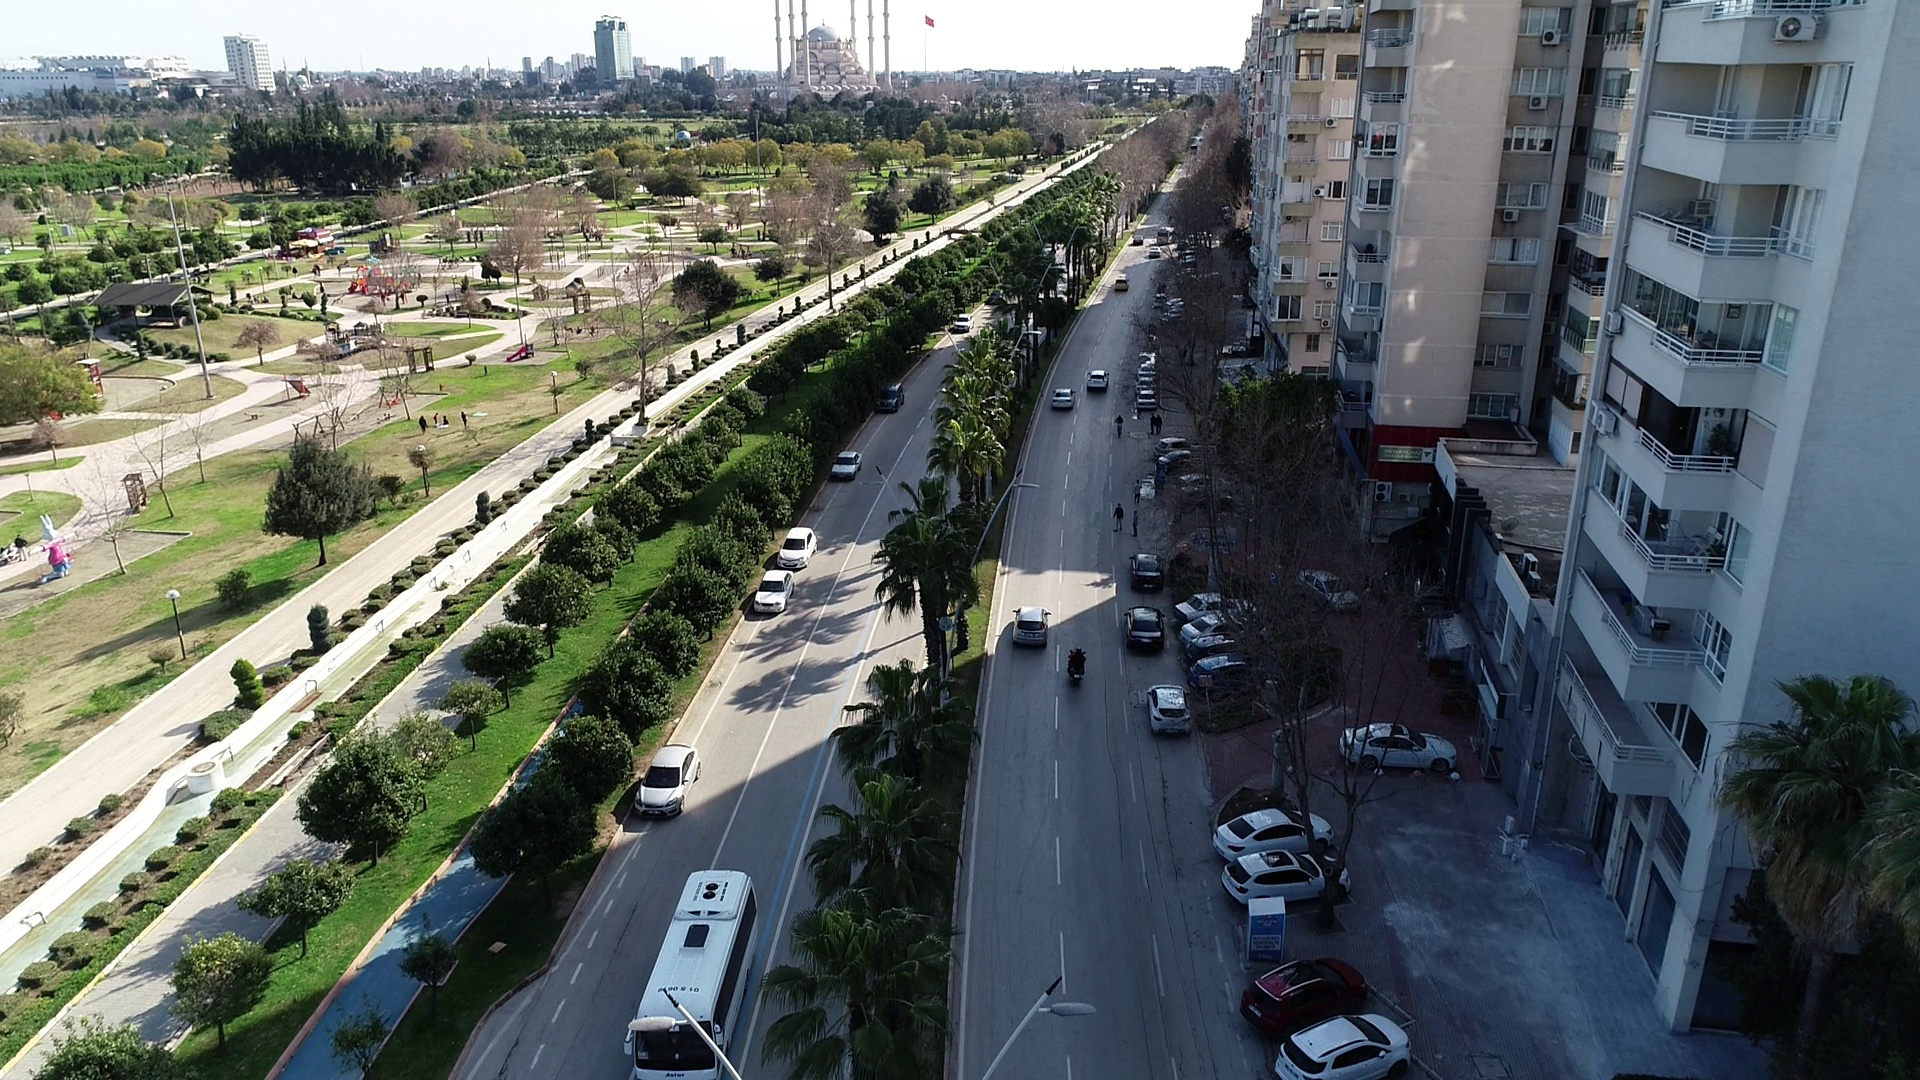car: (1238, 950, 1374, 1035), (1337, 718, 1466, 795), (1272, 1013, 1415, 1080), (1208, 849, 1361, 908), (1205, 809, 1348, 859), (633, 740, 703, 829), (1294, 566, 1368, 616), (1189, 652, 1281, 690), (1142, 683, 1196, 747), (1121, 599, 1174, 661), (1172, 590, 1263, 621), (1006, 603, 1055, 661), (753, 568, 797, 622), (1126, 547, 1175, 595), (774, 526, 821, 573), (826, 446, 865, 485), (1047, 378, 1076, 422), (875, 381, 907, 419), (1134, 387, 1162, 412), (950, 311, 978, 335), (1110, 271, 1131, 297), (1088, 374, 1110, 396), (1144, 244, 1162, 263), (1130, 233, 1145, 248)
person: (11, 530, 31, 567), (1128, 508, 1144, 542), (1110, 501, 1128, 536), (1111, 411, 1129, 443), (1130, 479, 1143, 507), (1154, 412, 1167, 437), (1146, 409, 1155, 439), (416, 414, 429, 434)
